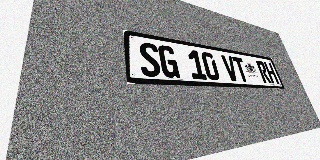0: (200, 51, 220, 81)
1: (186, 49, 207, 80)
G: (158, 44, 180, 78)
H: (263, 62, 279, 84)
R: (255, 60, 272, 83)
S: (138, 41, 162, 77)
T: (232, 57, 250, 82)
V: (221, 55, 240, 82)
